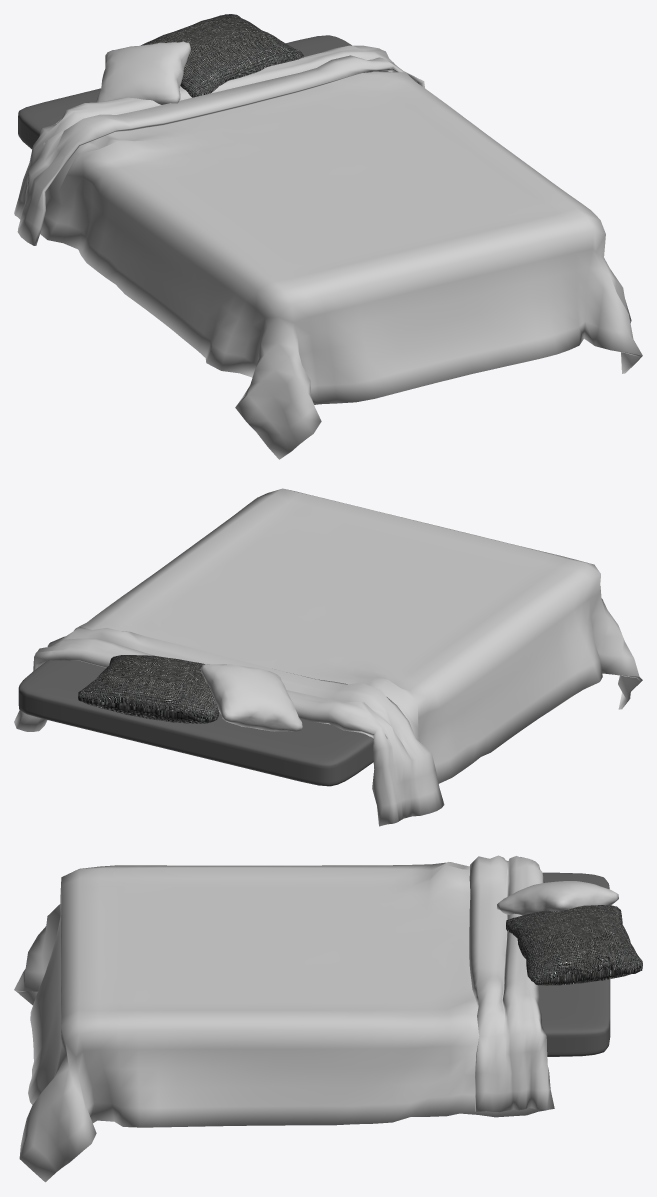
File: Bed.fbx
3 renders of one model, top to bottom at view 1: azimuth 30°, elevation 25°; view 2: azimuth 150°, elevation 25°; view 3: azimuth 270°, elevation 25°, orthographic.
Visible parts, largest first — view 1: Blanket, Pillow2, Pillow1, Matress; view 2: Blanket, Matress, Pillow2, Pillow1; view 3: Blanket, Pillow2, Matress, Pillow1.
Part boxes in pixels (left/top/right/bottom): Blanket: left=14, top=45, right=642, bottom=459; Pillow2: left=141, top=14, right=303, bottom=97; Pillow1: left=96, top=41, right=190, bottom=104; Matress: left=18, top=35, right=388, bottom=149; Blanket: left=14, top=488, right=642, bottom=826; Matress: left=18, top=660, right=373, bottom=786; Pillow2: left=78, top=655, right=219, bottom=723; Pillow1: left=201, top=664, right=302, bottom=731; Blanket: left=14, top=855, right=554, bottom=1182; Pillow2: left=506, top=905, right=642, bottom=985; Matress: left=538, top=872, right=610, bottom=1056; Pillow1: left=497, top=881, right=618, bottom=915.
Bounding box in the file's own units: 348 × 158 × 463.
